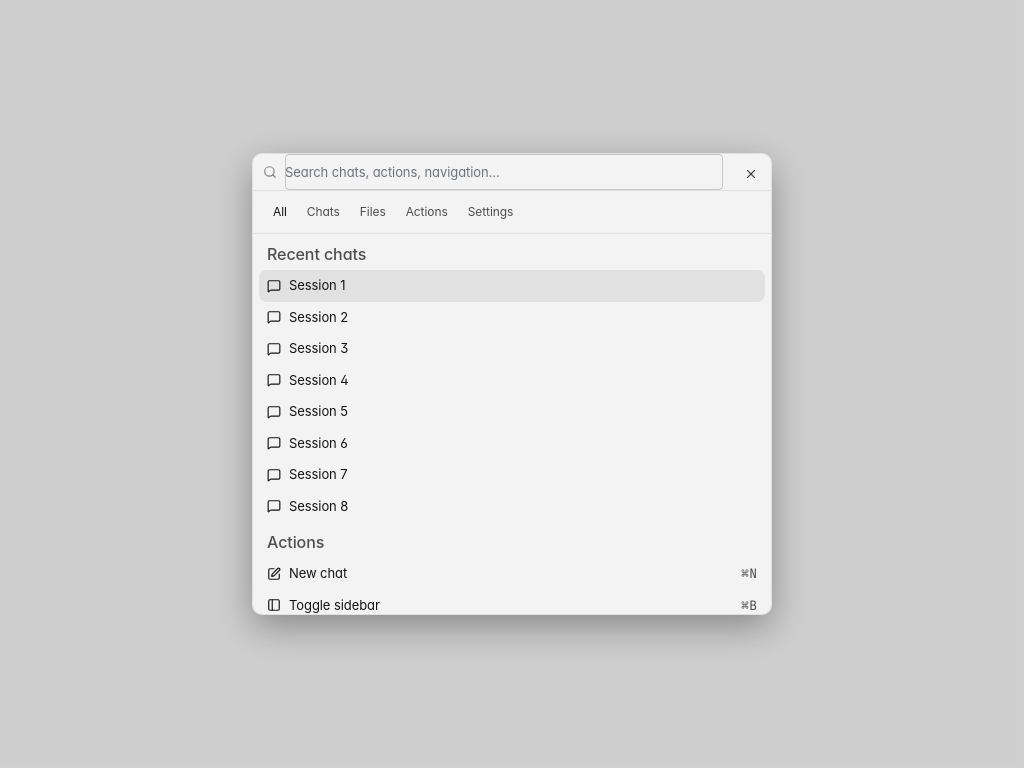
Test case: ProCommandPalette › keeps the idle history compact but searches every loaded chat
This screenshot has width=1024, height=768.
expect the text "Session 8" is shown: met, box left=289, top=496, right=348, bottom=516
expect the text "Needle assessment" is not shown: met
Type "Needle" into the dropdown with placeholder "Search chats, actions, navigation…". click: (504, 172)
box: left=285, top=154, right=723, bottom=190
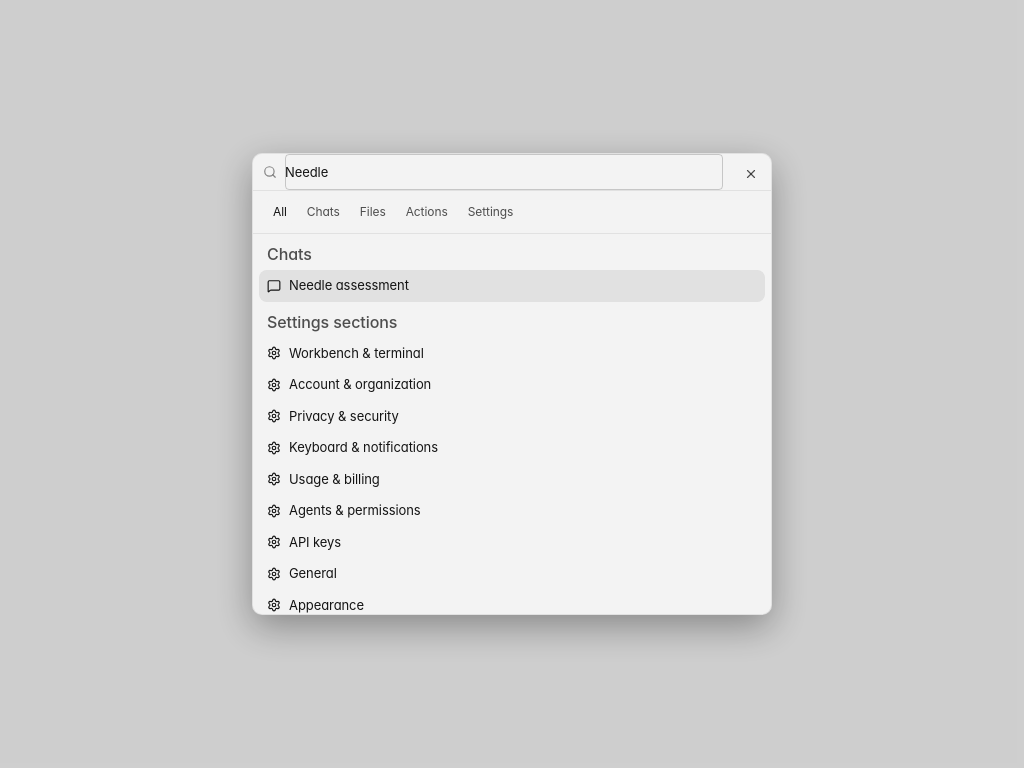
expect the element named "Chats" is shown: met, box left=259, top=270, right=765, bottom=302
expect the text "Needle assessment" is shown: met, box left=289, top=276, right=409, bottom=296
